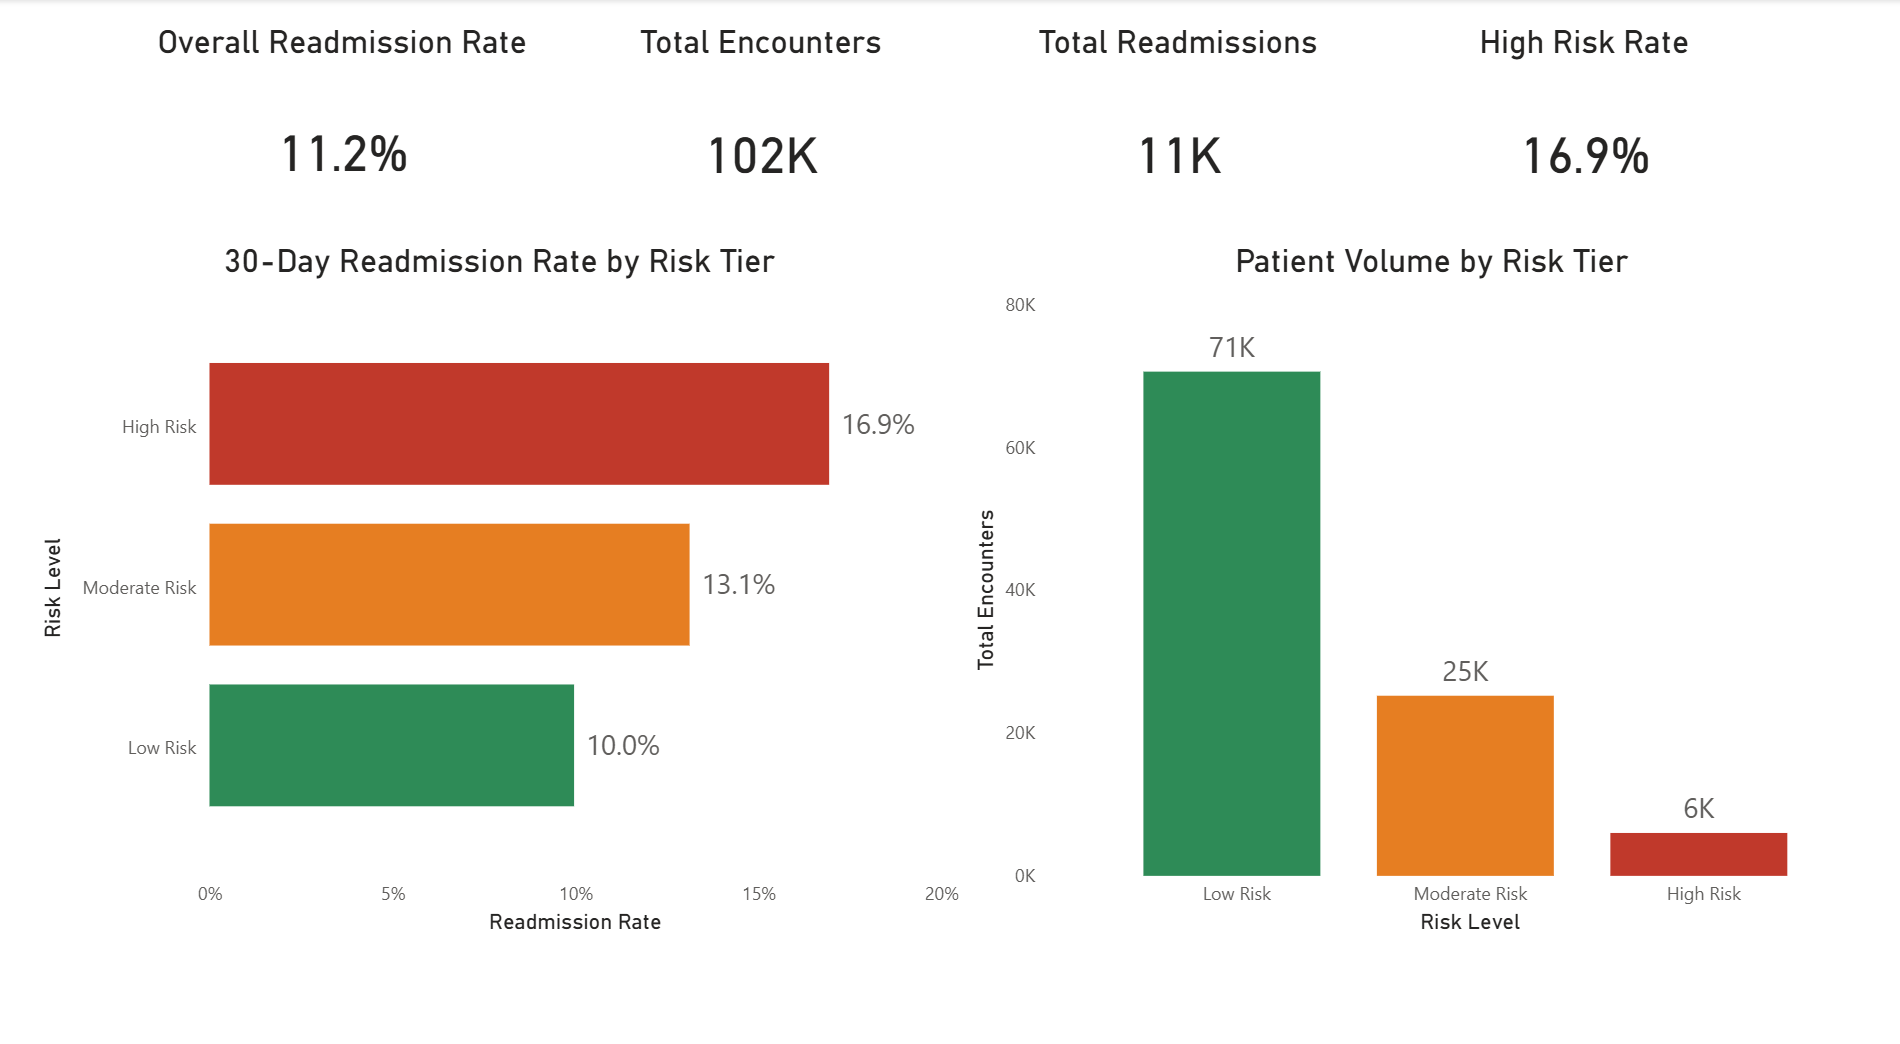

The page's visual inventory and layout, read from the dashboard file:
{"tool":"powerbi","page":{"name":"Executive Overview","canvas":[1280,720],"ordinal":0},"visuals":[{"type":"card","title":"Overall Readmission Rate","fields":{"Values":["v_readmission_analysis.Readmission Rate"]},"box":[96,16,272,144],"z":0},{"type":"card","title":"Total Encounters","fields":{"Values":["v_readmission_analysis.Total Encounters"]},"box":[368,16,288,144],"z":1000},{"type":"card","title":"Total Readmissions","fields":{"Values":["v_readmission_analysis.Total Readmissions"]},"box":[656,16,272,144],"z":2000},{"type":"card","title":"High Risk Rate","fields":{"Values":["v_readmission_analysis.Readmission Rate"]},"box":[928,16,272,144],"z":3000},{"type":"clusteredBarChart","title":"30-Day Readmission Rate by Risk Tier ","fields":{"Category":["v_readmission_analysis.risk_level"],"Y":["v_readmission_analysis.Readmission Rate"]},"box":[24.1,162.9,625.6,467.7],"z":4000},{"type":"clusteredColumnChart","title":"Patient Volume by Risk Tier","fields":{"Category":["v_readmission_analysis.risk_level"],"Y":["v_readmission_analysis.Total Encounters"]},"box":[649.7,162.9,624.6,467.7],"z":4001}]}

Visuals, with their boxes in screenshot pixels (x1, y1, x2, y2), scaled from the page's 1280x720 canvas onto the 1900x1044 screenshot:
"Overall Readmission Rate" card: [142, 23, 546, 232]
"Total Encounters" card: [546, 23, 974, 232]
"Total Readmissions" card: [974, 23, 1378, 232]
"High Risk Rate" card: [1378, 23, 1781, 232]
"30-Day Readmission Rate by Risk Tier " clusteredBarChart: [36, 236, 964, 914]
"Patient Volume by Risk Tier" clusteredColumnChart: [964, 236, 1892, 914]
